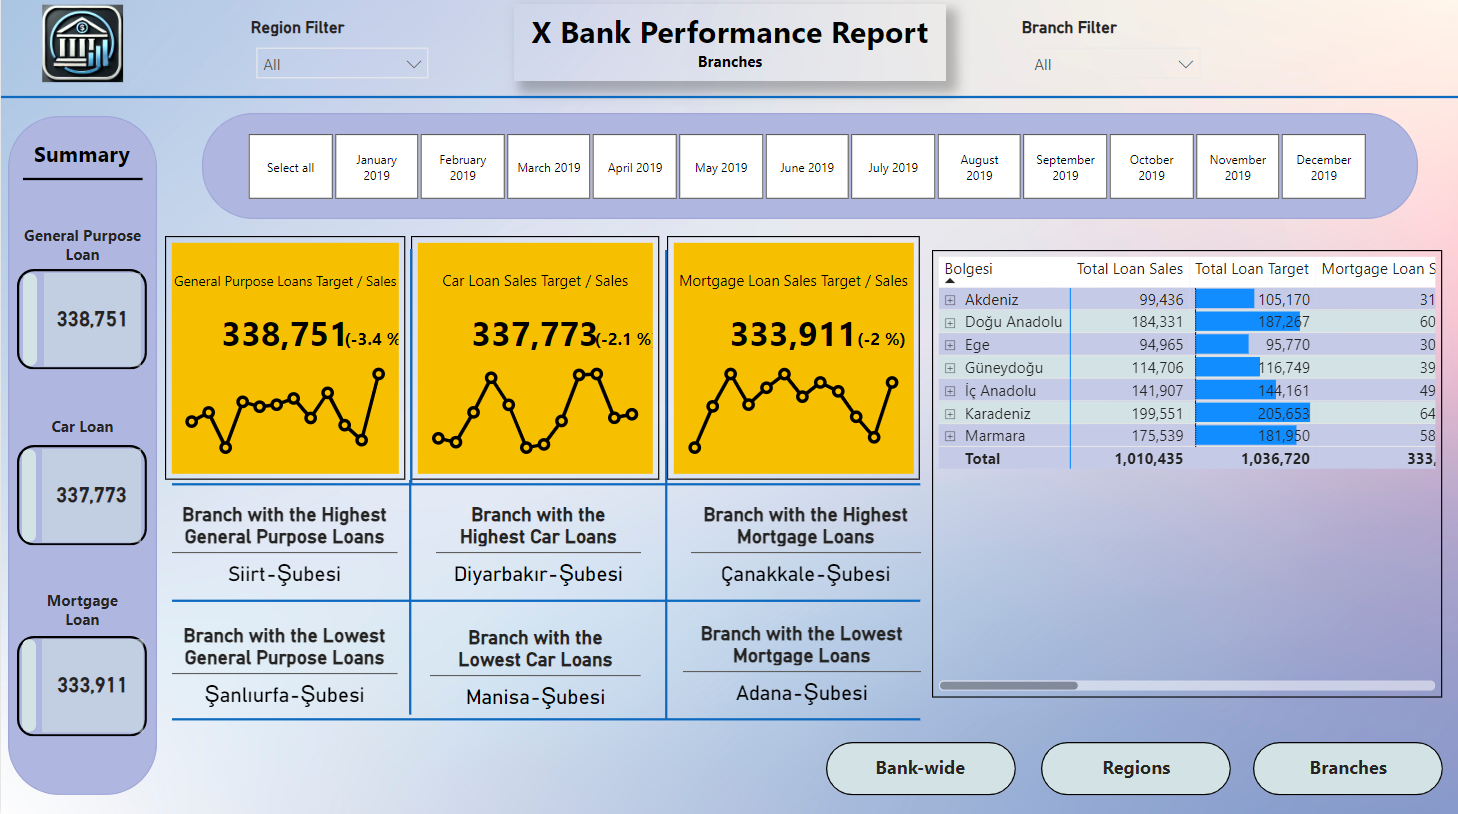

The page's visual inventory and layout, read from the dashboard file:
{"tool":"powerbi","page":{"name":"Branches","canvas":[1280,720],"ordinal":2},"visuals":[{"type":"textbox","box":[450.4,8.8,379.3,68.5],"z":0},{"type":"shape","box":[0,58,1280.2,65],"z":1000},{"type":"shape","box":[6.1,107.1,130.8,596.2],"z":2000},{"type":"textbox","box":[14.2,123.3,114.2,39.2],"z":3000},{"type":"shape","box":[19.3,147.5,105.4,29.9],"z":4000},{"type":"shape","box":[14.2,241.7,114.2,88.3],"z":5000},{"type":"shape","box":[14.2,396.2,114.2,88.3],"z":6000},{"type":"shape","box":[14.2,563.3,114.2,88.3],"z":7000},{"type":"textbox","box":[7.5,197.5,127.5,49.2],"z":8000},{"type":"shape","box":[19.2,245,12.5,81.7],"z":9000},{"type":"shape","box":[18.3,399.5,12.5,81.7],"z":10000},{"type":"shape","box":[18.3,566.7,12.5,81.7],"z":11000},{"type":"textbox","box":[30,365.4,83.3,30.8],"z":12000},{"type":"image","box":[20,4.2,102.5,78.3],"z":13000},{"type":"textbox","box":[20,518.3,102.5,45],"z":14000},{"type":"shape","box":[1099.2,656.7,166.7,46.7],"z":15000},{"type":"shape","box":[913.3,656.7,166.7,46.7],"z":16000},{"type":"shape","box":[724.2,656.7,166.7,46.7],"z":17000},{"type":"textbox","box":[745.8,663.3,123.3,33.3],"z":18000},{"type":"textbox","box":[935,663.3,123.3,33.3],"z":19000},{"type":"textbox","box":[1120.8,663.3,123.3,33.3],"z":20000},{"type":"shape","box":[176.5,104.5,1067.7,93.1],"z":21000},{"type":"slicer","fields":{"Values":["Loans.Ay"]},"box":[191.4,115.9,1030.8,71.1],"z":22000},{"type":"card","fields":{"Values":["Measurements.General Purpose Loan Sales"]},"box":[37.8,245,85.2,81.7],"z":23000},{"type":"card","fields":{"Values":["Measurements.Car Loan Sales"]},"box":[36,399.5,86.9,81.7],"z":24000},{"type":"card","fields":{"Values":["Measurements.Mortgage Loan Sales"]},"box":[36,566.3,88.7,81.7],"z":25000},{"type":"slicer","title":"Region Filter","fields":{"Values":["Branches.Bolgesi"]},"box":[214,21.1,171.1,56.1],"z":26000},{"type":"KPIStatusWithHistory1446562283967","title":"Car Loan Sales","fields":{"Values":["Measurements.Car Loan Sales"],"Targets":["Measurements.Car Loan Total Target"],"Category":["Loans.Ay"]},"box":[360,212.7,218.2,213.6],"z":27000},{"type":"KPIStatusWithHistory1446562283967","title":"General Purpose Loan Sales","fields":{"Values":["Measurements.General Purpose Loan Sales"],"Targets":["Measurements.General Purpose Loan Total Target"],"Category":["Loans.Ay"]},"box":[143.6,212.7,210.9,213.6],"z":28000},{"type":"KPIStatusWithHistory1446562283967","title":"Mortgage Loan Sales ","fields":{"Values":["Measurements.Mortgage Loan Sales"],"Targets":["Measurements.Mortgage Loan Total Target"],"Category":["Loans.Ay"]},"box":[584.5,212.7,221.8,213.6],"z":29000},{"type":"card","title":"Branch with the Highest General Purpose Loans","fields":{"Values":["Min(Branches.Sube Adı)"]},"box":[150.4,446.5,197.7,80.2],"z":30000},{"type":"card","title":"Branch with the Highest Mortgage Loans","fields":{"Values":["Min(Branches.Sube Adı)"]},"box":[605.6,446.5,201.5,79.3],"z":31000},{"type":"card","title":"Branch with the Highest Car Loans","fields":{"Values":["Min(Branches.Sube Adı)"]},"box":[382.3,446.5,179.8,79.3],"z":32000},{"type":"card","title":"Branch with the Lowest General Purpose Loans","fields":{"Values":["Min(Branches.Sube Adı)"]},"box":[150.4,552.9,197.7,80.2],"z":33000},{"type":"card","title":"Branch with the Lowest Mortgage Loans","fields":{"Values":["Min(Branches.Sube Adı)"]},"box":[598.6,551.1,208.5,79.3],"z":34000},{"type":"card","title":"Branch with the Lowest Car Loans","fields":{"Values":["Min(Branches.Sube Adı)"]},"box":[376.8,554.7,185.2,79.3],"z":35000},{"type":"shape","box":[150.1,423.6,657.2,14.6],"z":36000},{"type":"shape","box":[150.1,630.8,657.2,12.8],"z":37000},{"type":"shape","box":[150.1,525.5,657.2,15.4],"z":38000},{"type":"shape","box":[578.2,224.5,12.7,411.8],"z":39000},{"type":"shape","box":[354.3,426.7,10.9,206.4],"z":40000},{"type":"shape","box":[354.6,224.2,10.9,207.5],"z":41000},{"type":"pivotTable","fields":{"Rows":["Branches.Bolgesi","Branches.Sube Adı"],"Values":["Measurements.Total Loan Sales","Measurements.Total Loan Target","Measurements.Mortgage Loan Sales","Measurements.Mortgage Loan Total Target","Measurements.General Purpose Loan Sales","Measurements.General Purpose Loan Total Target","Measurements.Car Loan Sales","Measurements.Car Loan Total Target"]},"box":[817.3,224.5,448.2,392.7],"z":42000},{"type":"slicer","title":"Branch Filter","fields":{"Values":["Branches.Sube Adı"]},"box":[890.9,20.9,171.8,56.4],"z":43000}]}

Visuals, with their boxes in screenshot pixels (x1, y1, x2, y2), scaled from the page's 1280x720 canvas onto the 1458x814 screenshot:
textbox: bbox(513, 10, 945, 87)
shape: bbox(0, 66, 1457, 139)
shape: bbox(7, 121, 156, 795)
textbox: bbox(16, 139, 146, 184)
shape: bbox(22, 167, 142, 201)
shape: bbox(16, 273, 146, 373)
shape: bbox(16, 448, 146, 548)
shape: bbox(16, 637, 146, 737)
textbox: bbox(9, 223, 154, 279)
shape: bbox(22, 277, 36, 369)
shape: bbox(21, 452, 35, 544)
shape: bbox(21, 641, 35, 733)
textbox: bbox(34, 413, 129, 448)
image: bbox(23, 5, 140, 93)
textbox: bbox(23, 586, 140, 637)
shape: bbox(1252, 742, 1442, 795)
shape: bbox(1040, 742, 1230, 795)
shape: bbox(825, 742, 1015, 795)
textbox: bbox(850, 750, 990, 788)
textbox: bbox(1065, 750, 1205, 788)
textbox: bbox(1277, 750, 1417, 788)
shape: bbox(201, 118, 1417, 223)
slicer - Loans.Ay: bbox(218, 131, 1392, 211)
card - Measurements.General Purpose Loan Sales: bbox(43, 277, 140, 369)
card - Measurements.Car Loan Sales: bbox(41, 452, 140, 544)
card - Measurements.Mortgage Loan Sales: bbox(41, 640, 142, 733)
"Region Filter" slicer: bbox(244, 24, 439, 87)
"Car Loan Sales" KPIStatusWithHistory1446562283967: bbox(410, 240, 659, 482)
"General Purpose Loan Sales" KPIStatusWithHistory1446562283967: bbox(164, 240, 404, 482)
"Mortgage Loan Sales " KPIStatusWithHistory1446562283967: bbox(666, 240, 918, 482)
"Branch with the Highest General Purpose Loans" card: bbox(171, 505, 397, 595)
"Branch with the Highest Mortgage Loans" card: bbox(690, 505, 919, 594)
"Branch with the Highest Car Loans" card: bbox(435, 505, 640, 594)
"Branch with the Lowest General Purpose Loans" card: bbox(171, 625, 397, 716)
"Branch with the Lowest Mortgage Loans" card: bbox(682, 623, 919, 713)
"Branch with the Lowest Car Loans" card: bbox(429, 627, 640, 717)
shape: bbox(171, 479, 920, 495)
shape: bbox(171, 713, 920, 728)
shape: bbox(171, 594, 920, 612)
shape: bbox(659, 254, 673, 719)
shape: bbox(404, 482, 416, 716)
shape: bbox(404, 253, 416, 488)
pivotTable - Branches.Bolgesi x Branches.Sube Adı: bbox(931, 254, 1441, 698)
"Branch Filter" slicer: bbox(1015, 24, 1210, 87)
